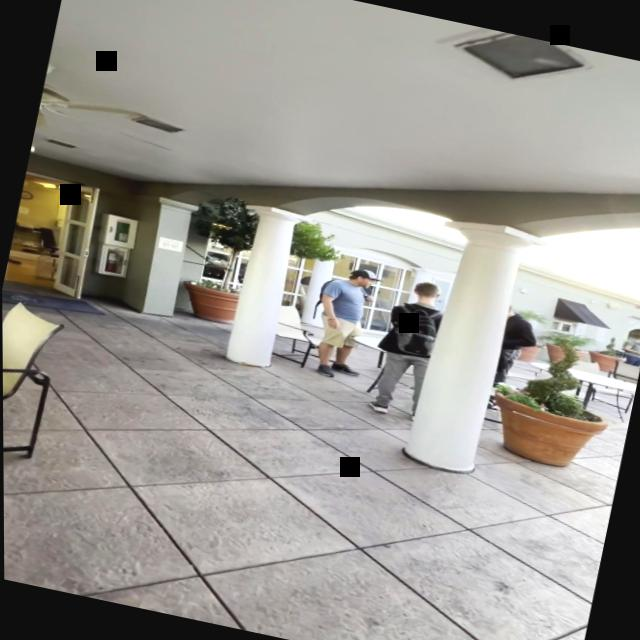NO-Mask: (353, 273, 373, 290)
